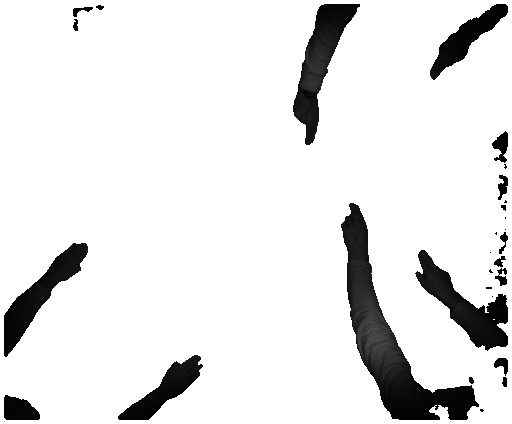hand: (408, 248, 459, 306), (161, 352, 207, 400), (336, 200, 375, 256), (424, 33, 469, 79), (288, 98, 319, 151), (51, 240, 87, 285)
